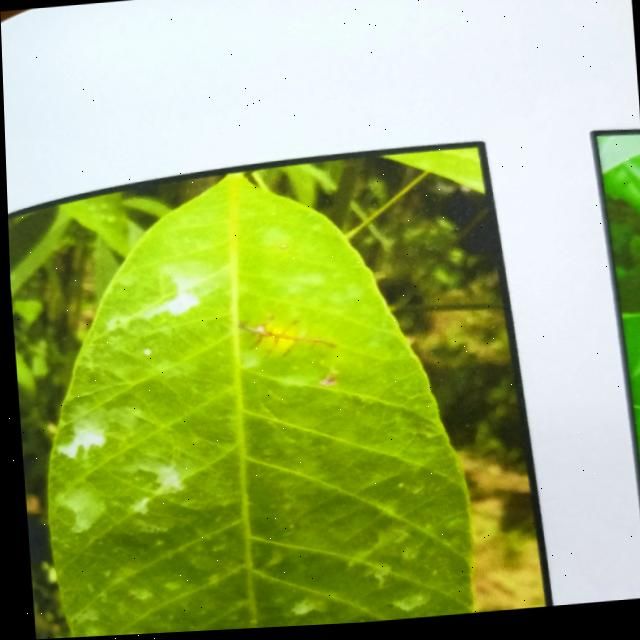Corynespora: (233, 312, 331, 360)
